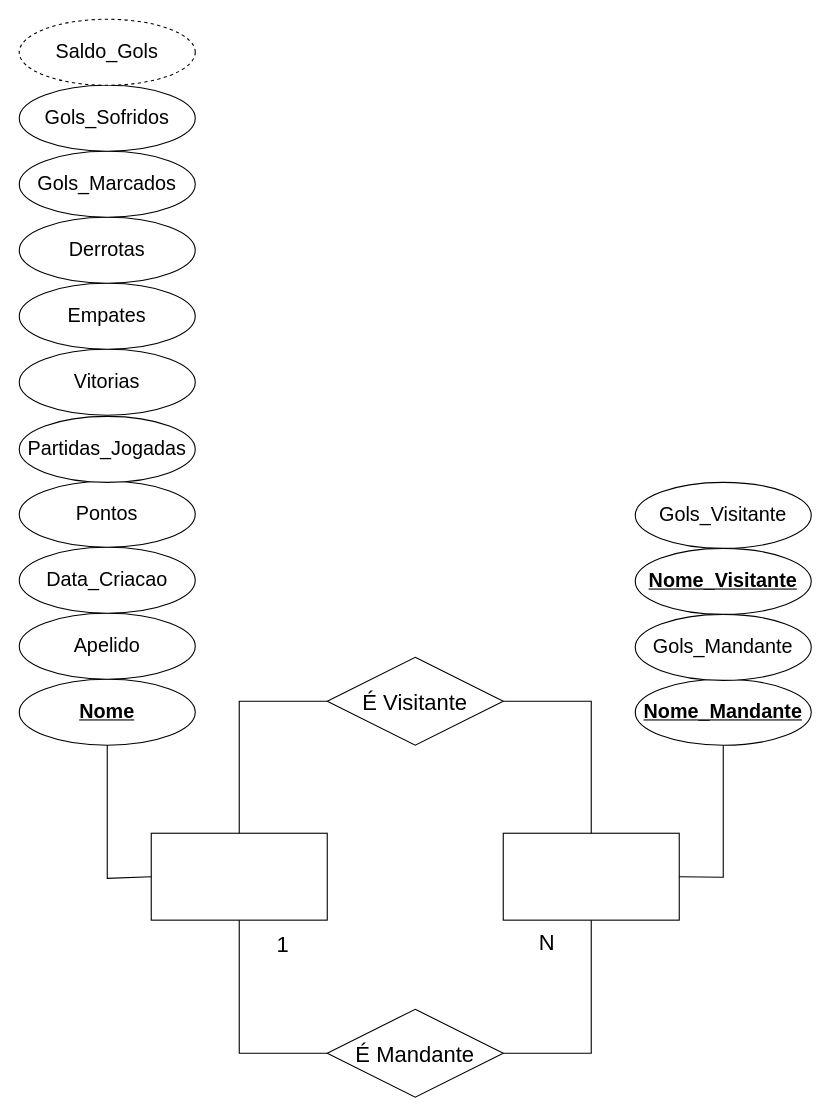
The diagram is 831 pixels wide and 1117 high, and some of its shapes have lost their labels. The centre of each missing label's shape, as x and y in pixels:
"Partida" goes at point (590, 876).
"Time" goes at point (238, 876).
